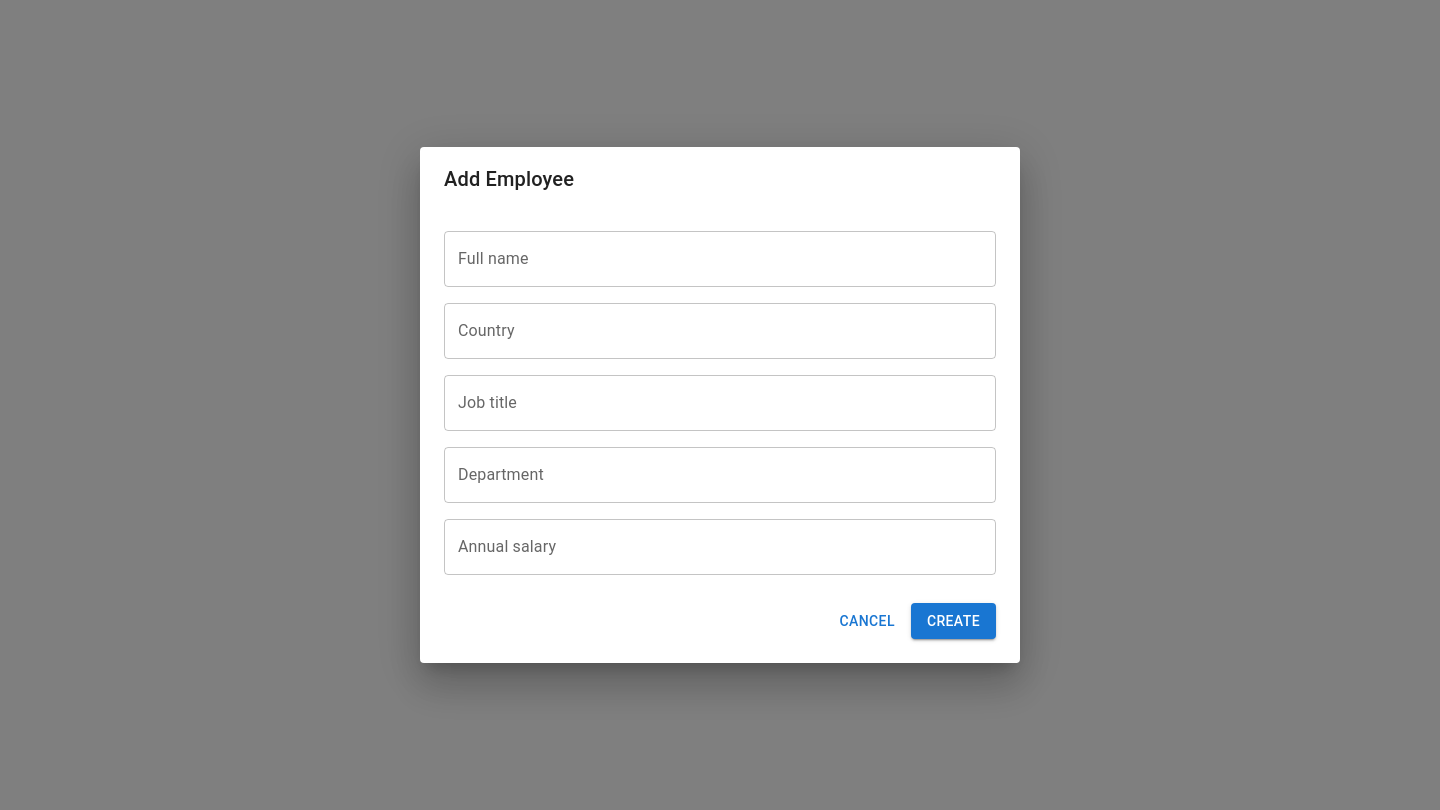
Test: EmployeeFormDialog › shows client-side validation errors
What coordinates should you click on to do the following:
click the button "Create"
I would click on:
 (953, 621)
Its box is [911,603,996,639].
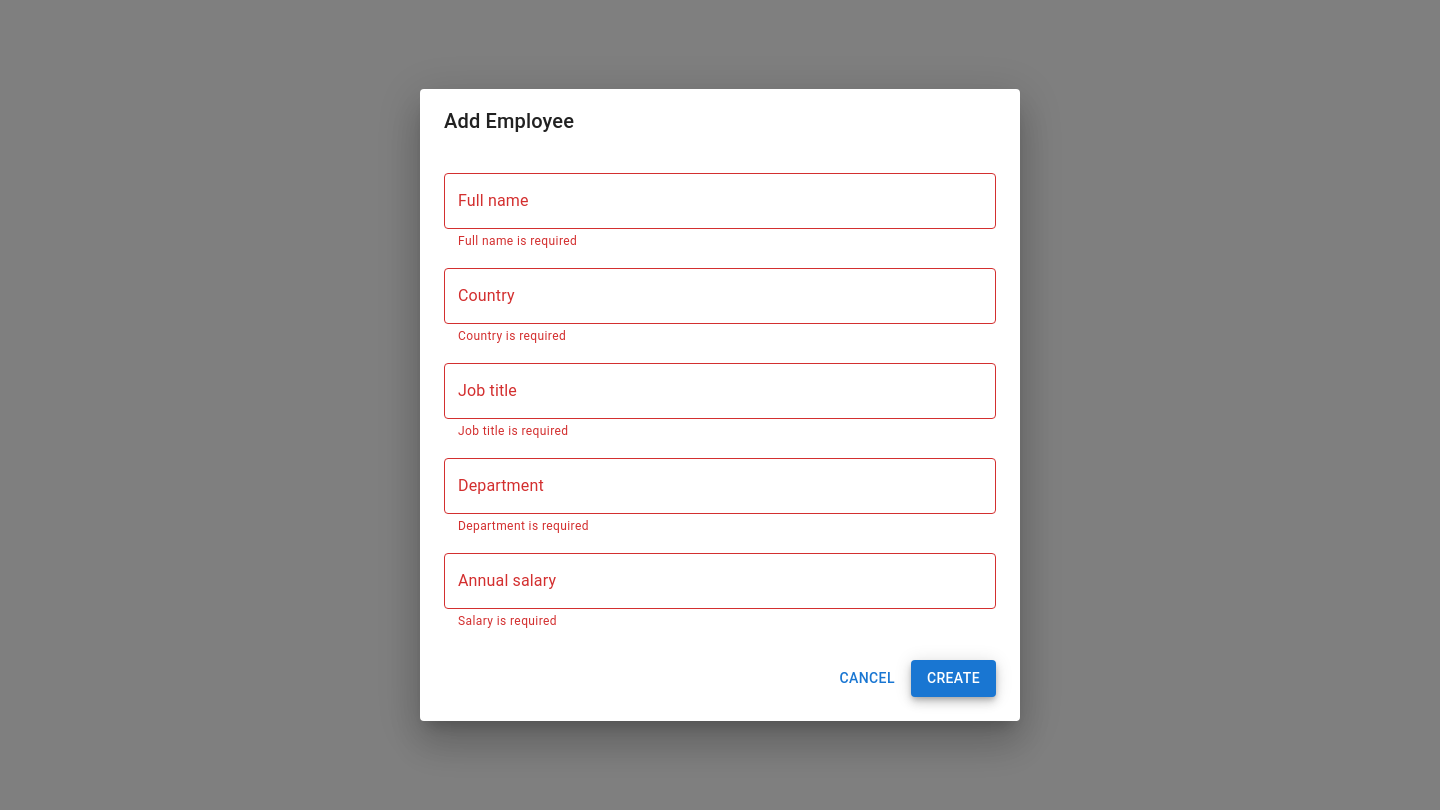
Now the text "Full name is required" is shown, box [458,234,577,248]
Now the text "Salary is required" is shown, box [458,614,557,628]
